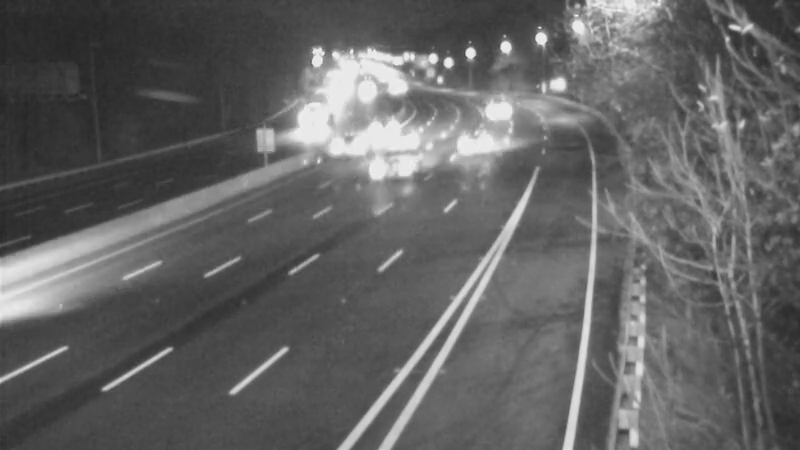vehicle: (360, 122, 440, 202), (464, 87, 514, 137), (364, 94, 414, 144), (328, 111, 378, 161), (442, 117, 492, 167), (292, 97, 342, 147)
